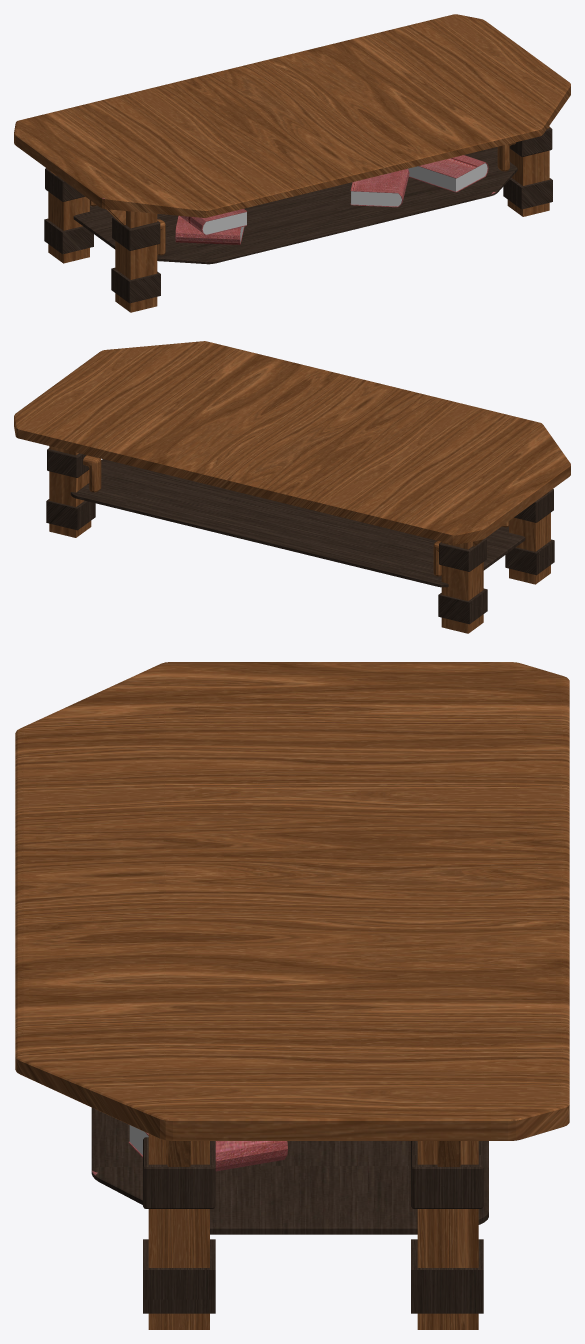
Rendered from table.fbx.
3 views of the same model, one above another, from view 1: azimuth 30°, elevation 25°; view 2: azimuth 150°, elevation 25°; view 3: azimuth 270°, elevation 25° (orthographic). The views are drawn at different scales.
Visible parts, largest first — view 1: Cube.121; view 2: Cube.121; view 3: Cube.121.
Boxes of the visible parts, left/top/right/bottom form: Cube.121: left=14, top=14, right=570, bottom=312; Cube.121: left=14, top=341, right=570, bottom=633; Cube.121: left=15, top=662, right=569, bottom=1329.
Size of the model in its own units: 641 by 154 by 327.
